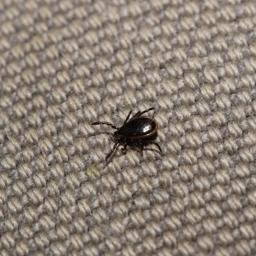Ixodes scapularis: (90, 106, 163, 169)
